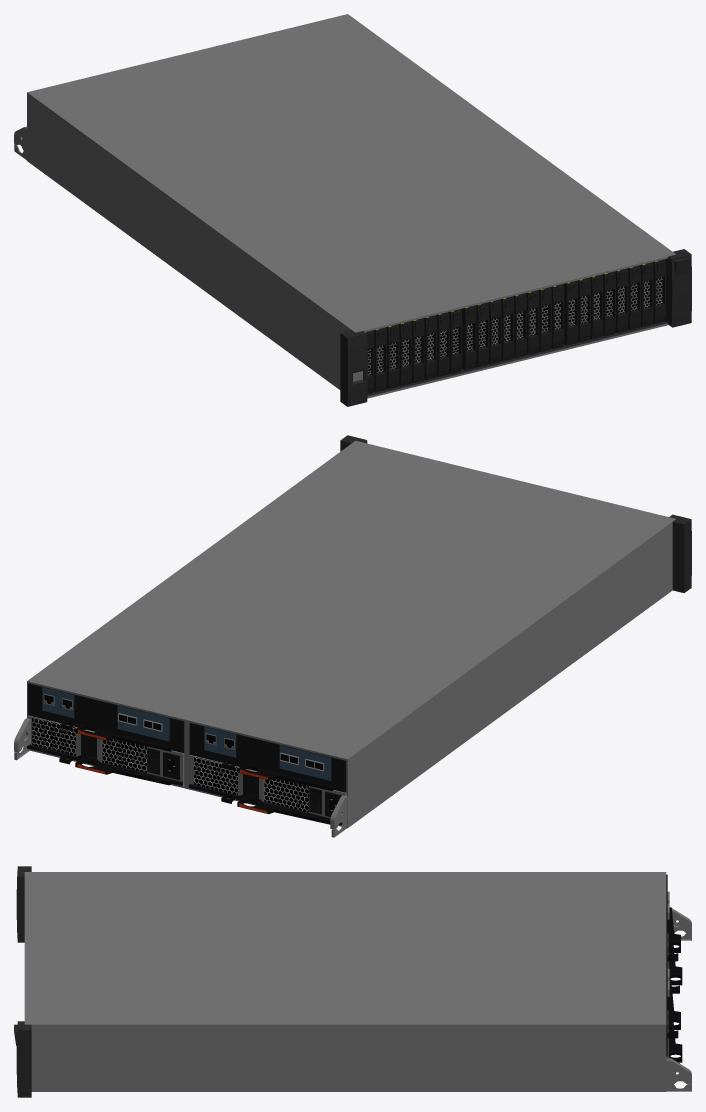
File: NETAPP_DS2246.fbx
3 renders of one model, top to bottom at view 1: azimuth 30°, elevation 25°; view 2: azimuth 150°, elevation 25°; view 3: azimuth 270°, elevation 25°, orthographic. The views are drawn at different scales.
Visible parts, largest first — view 1: NETAPP_DS2246; view 2: NETAPP_DS2246; view 3: NETAPP_DS2246.
Boxes of the visible parts, bbox=[...] form: NETAPP_DS2246: bbox=[14, 14, 691, 406]; NETAPP_DS2246: bbox=[14, 435, 691, 837]; NETAPP_DS2246: bbox=[14, 866, 691, 1097].
Size of the model in its own units: 465 by 89 by 813.
Materials: 11 (1 with a texture image).
